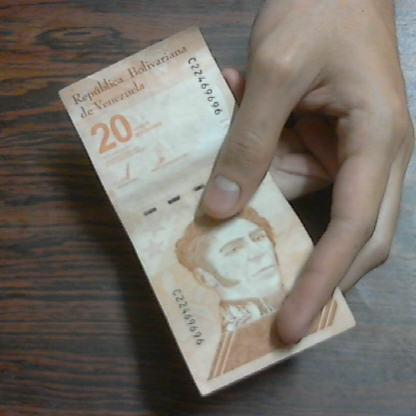twenty-front-vef: (40, 13, 370, 401)
